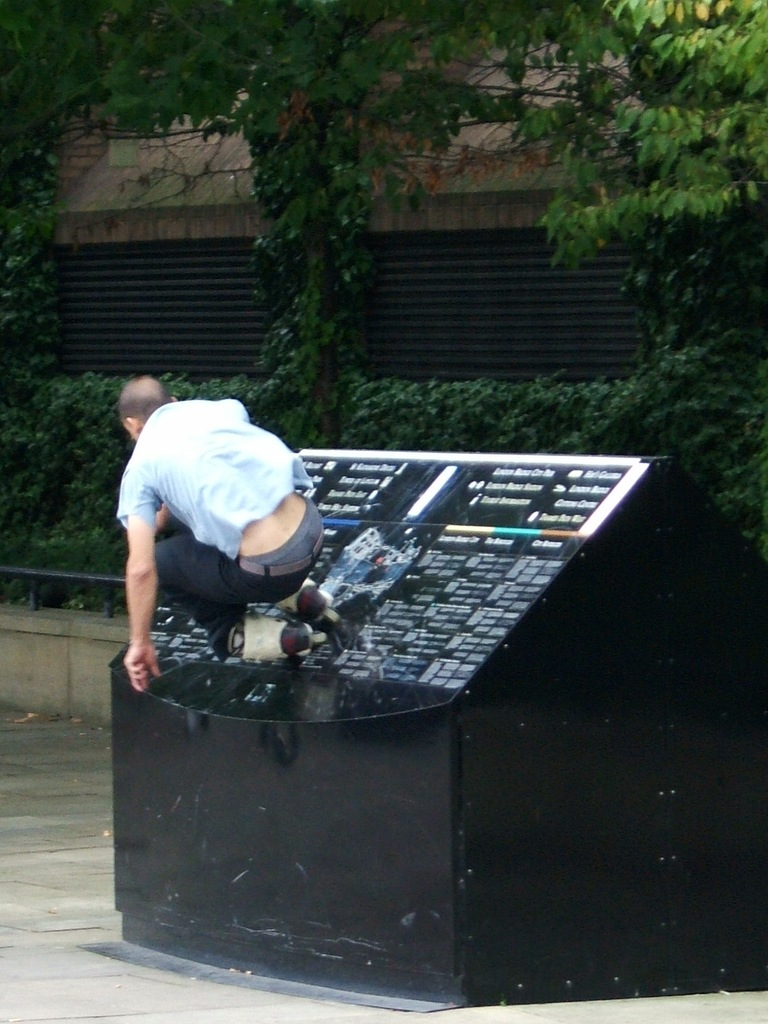Human_hand: (124, 639, 160, 690)
